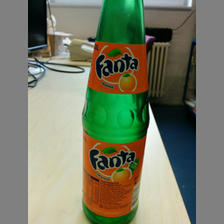soda: (80, 1, 152, 224)
